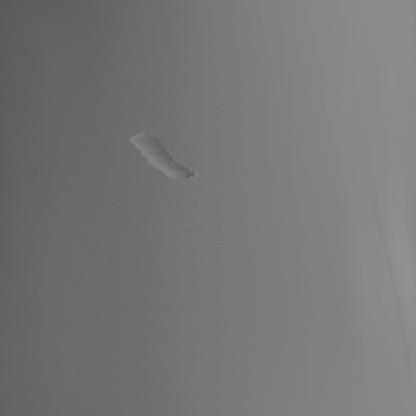sunshang: (131, 133, 200, 185)
